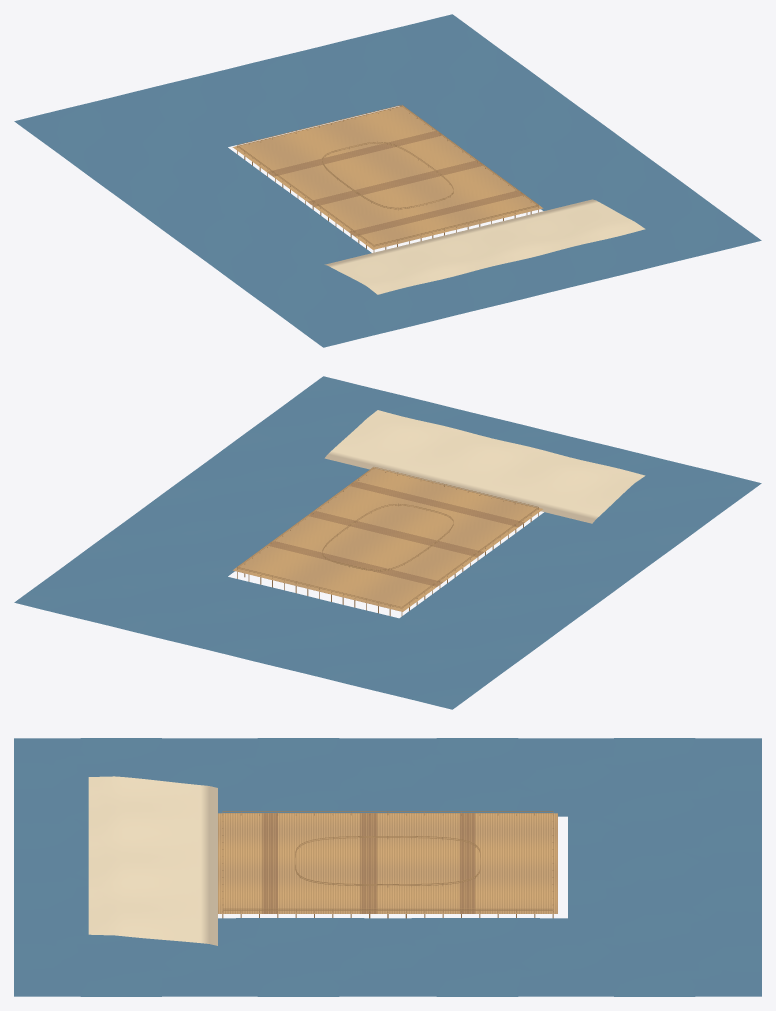
Rendered from env.glb.
3 views of the same model, one above another, from view 1: azimuth 30°, elevation 25°; view 2: azimuth 150°, elevation 25°; view 3: azimuth 270°, elevation 25° (orthographic). The views are drawn at different scales.
Visible parts, largest first — view 1: water, pier_deck, beach, pier_structure; view 2: water, pier_deck, beach, pier_structure; view 3: water, pier_deck, beach, pier_structure.
Boxes of the visible parts, x1,y1,x2,y2 form: water: [14, 14, 761, 347]; pier_deck: [232, 105, 543, 249]; beach: [324, 199, 645, 294]; pier_structure: [237, 105, 538, 252]; water: [14, 376, 761, 709]; pier_deck: [232, 467, 542, 611]; beach: [324, 410, 645, 523]; pier_structure: [237, 467, 538, 616]; water: [14, 738, 761, 996]; pier_deck: [218, 813, 557, 913]; beach: [88, 776, 217, 945]; pier_structure: [222, 811, 553, 918].
Bounding box in the file's own units: 180 × 7.93 × 220.
